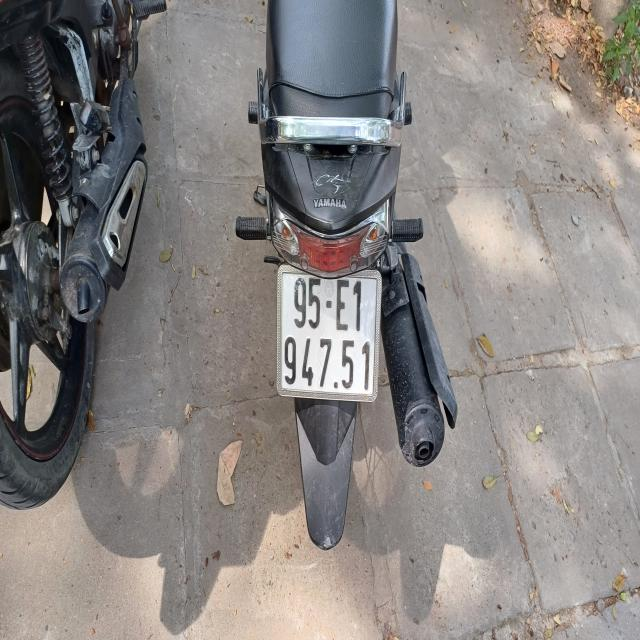1: (361, 342, 372, 392), (353, 280, 362, 334)
4: (301, 336, 314, 391)
5: (340, 338, 356, 391), (308, 276, 320, 330)
7: (317, 337, 333, 388)
9: (283, 332, 298, 388), (294, 276, 306, 328)
E: (336, 279, 351, 330)
